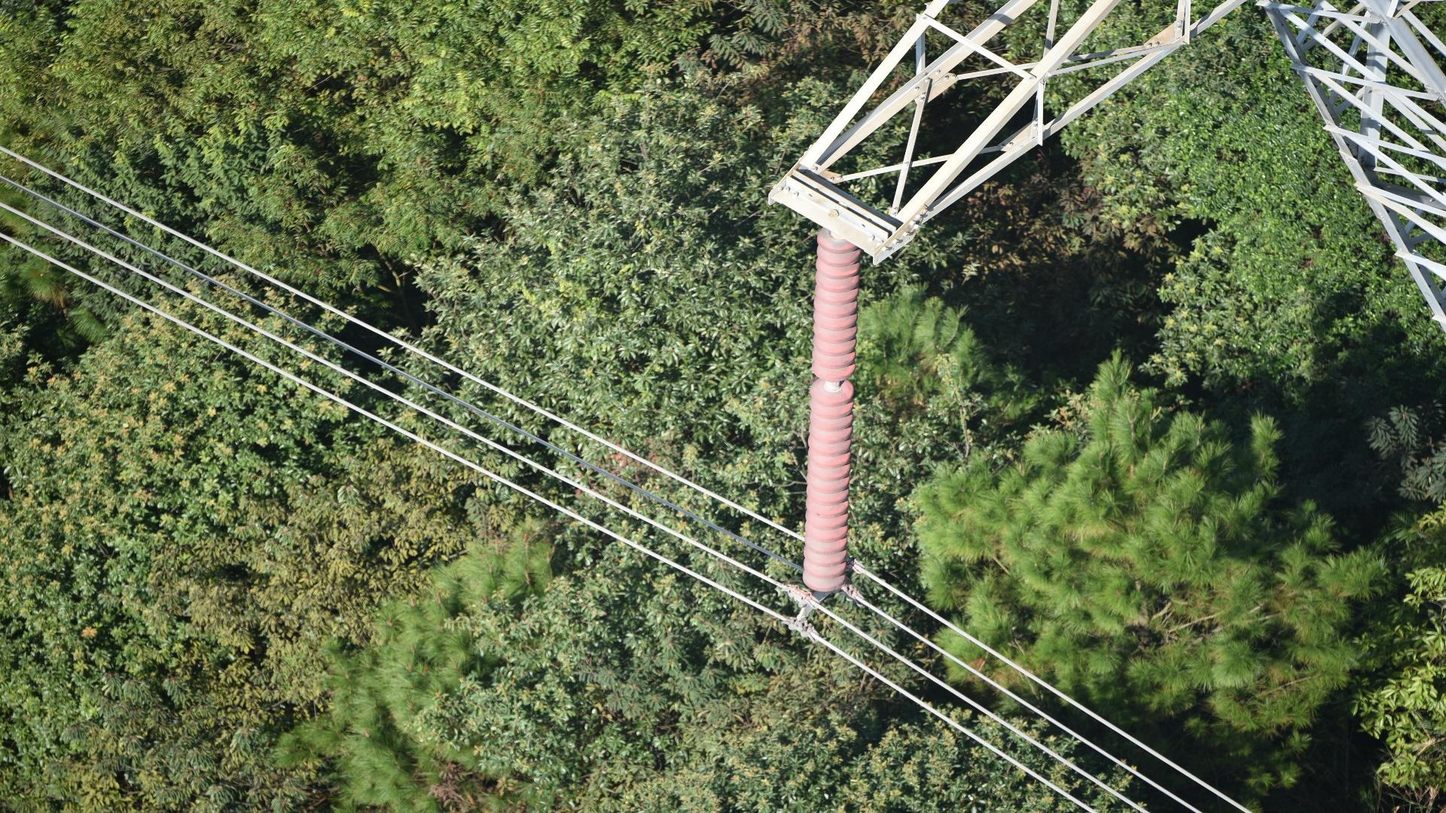insulator: (794, 231, 866, 599)
